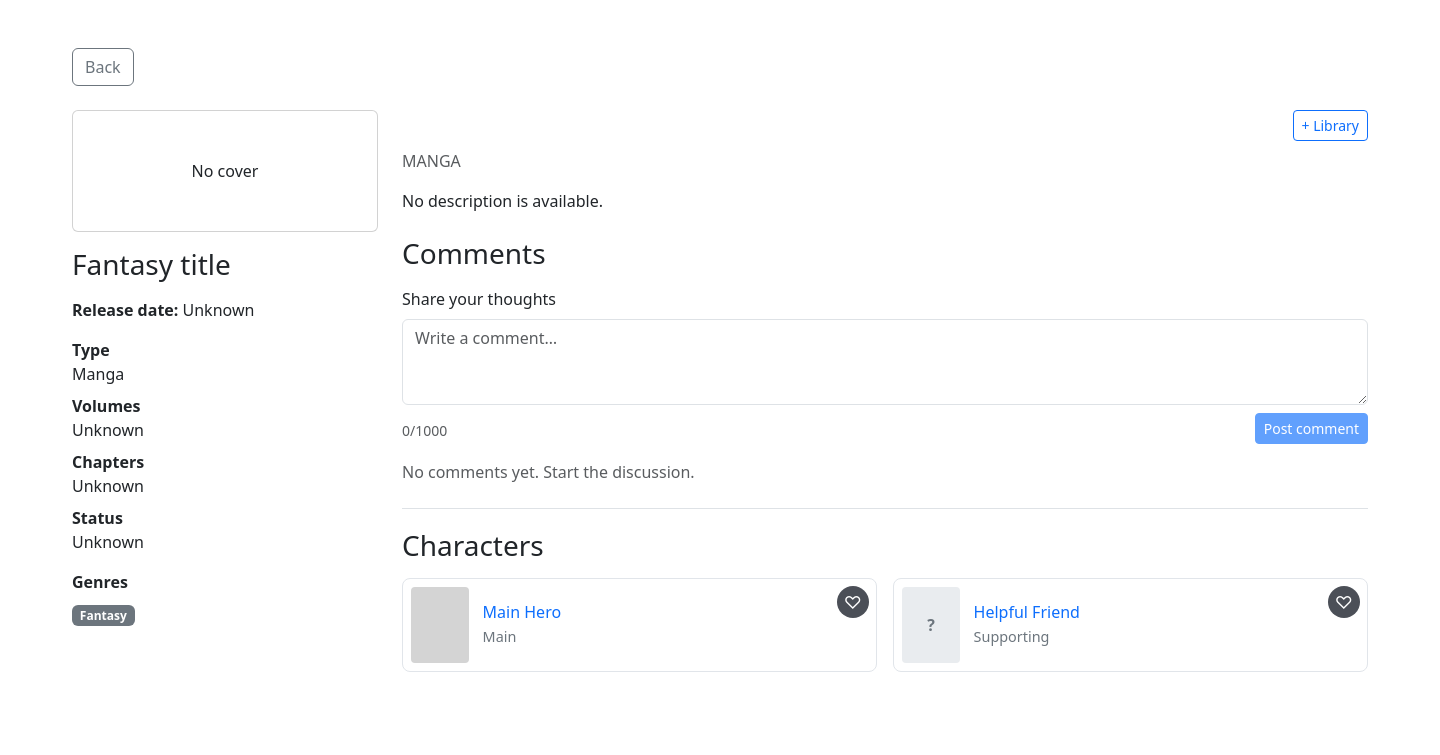
Test: AniListMangaDetailsPage › shows the favorite control only after adding a manga to the library
The width and height of the screenshot is (1440, 755).
Click the button with aria-label "Add Fantasy title to My Library". click: click(1330, 126)
box: [1292, 110, 1368, 141]
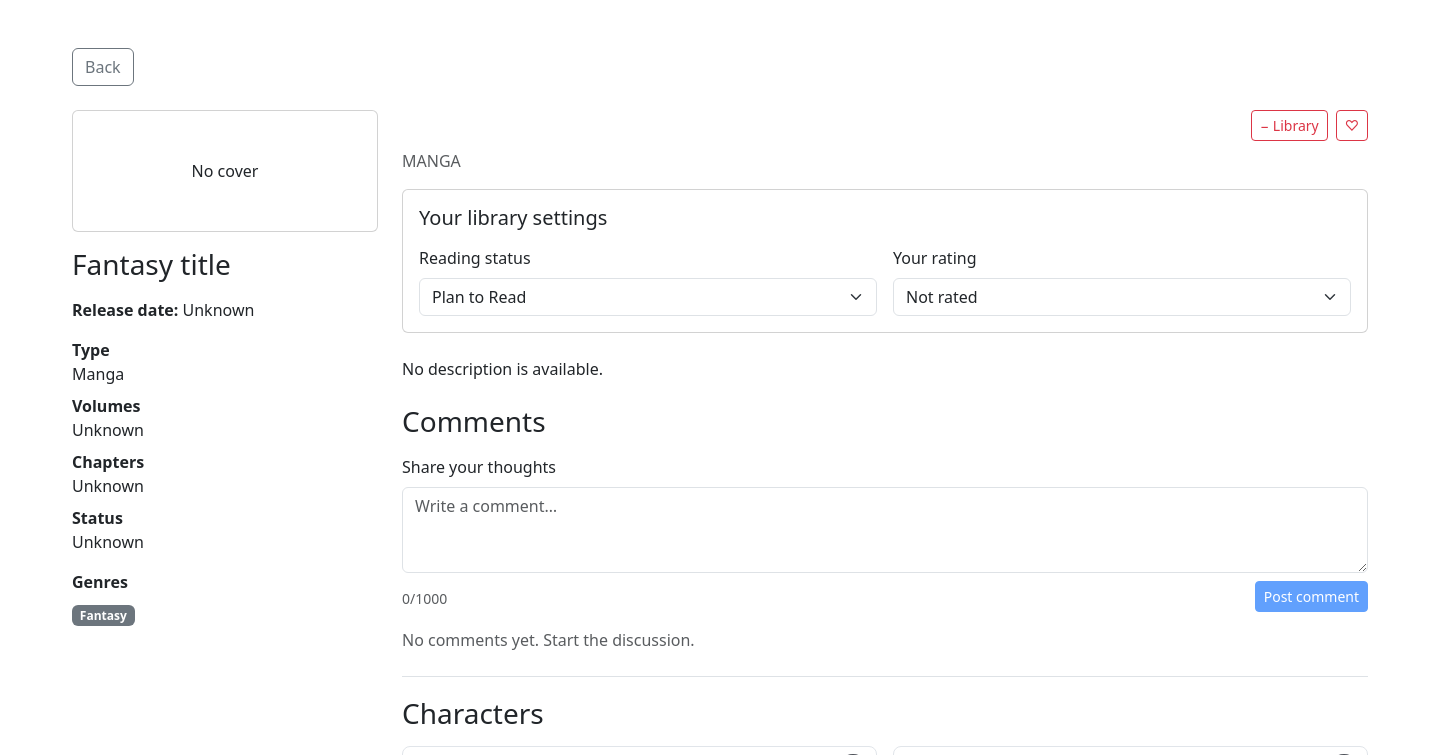
Now the button named "Add Fantasy title to Favorites" is shown, box [1336, 110, 1368, 141]
